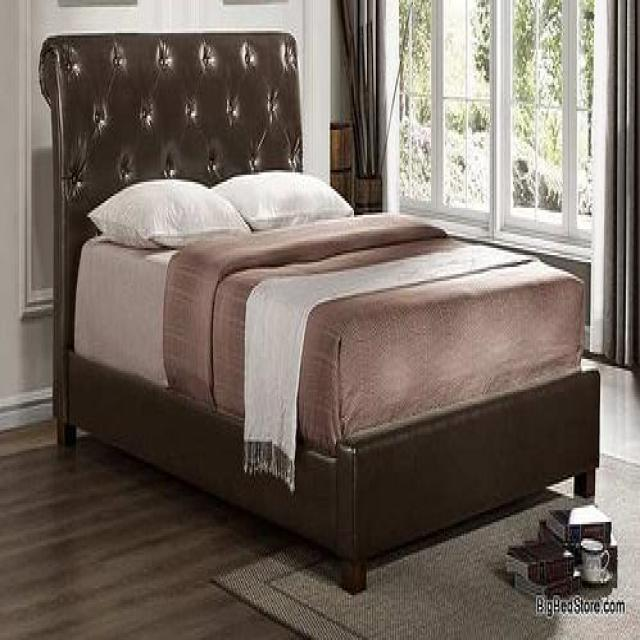bed: (37, 28, 600, 595)
